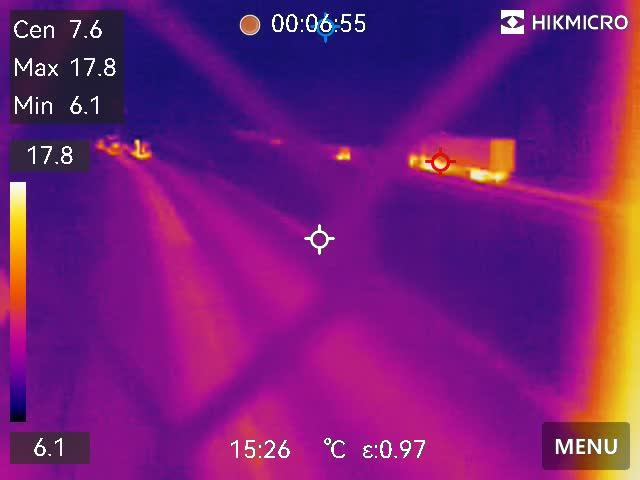heavyTruck: (401, 125, 518, 182)
